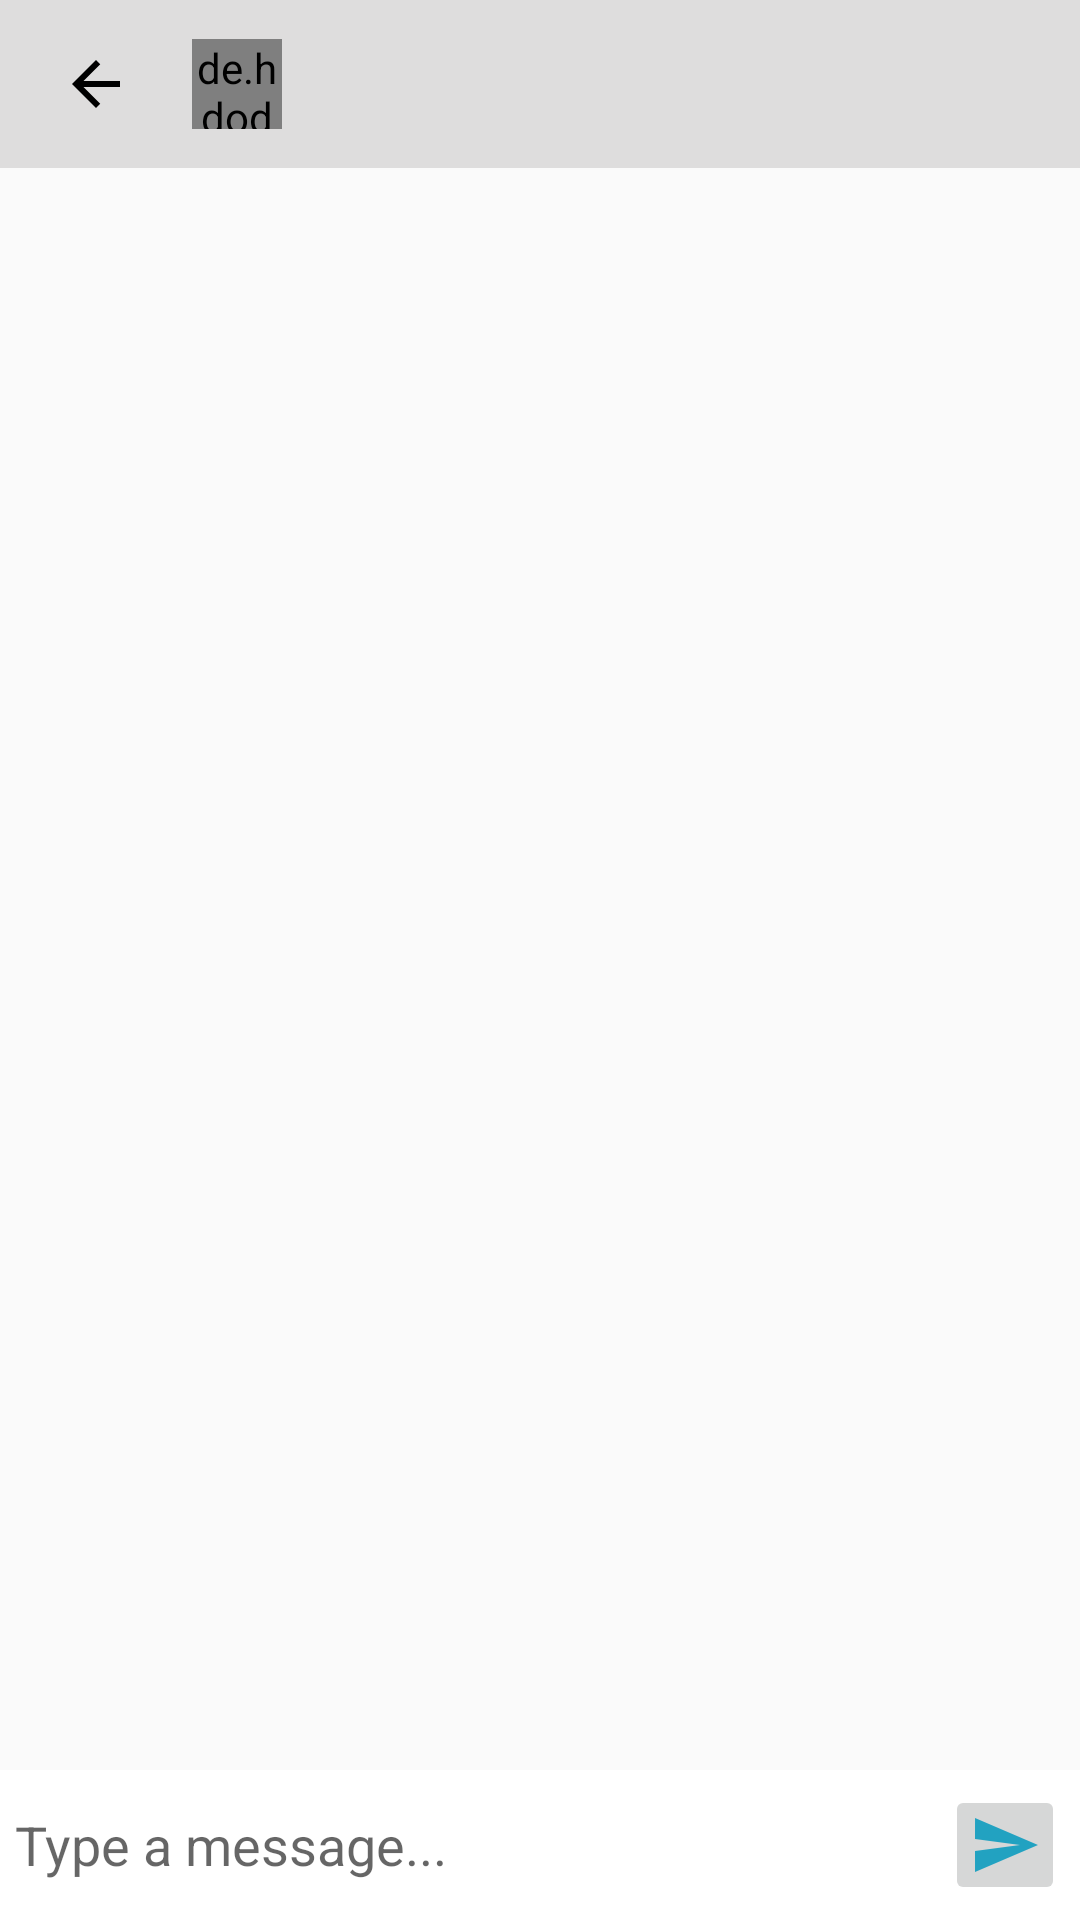

Screen size 1080w x 1920h. Icon name, then its box in pixels as (x1, y1, x2, y2):
arrow back: (72, 60, 120, 108)
send: (957, 1803, 1053, 1887)
